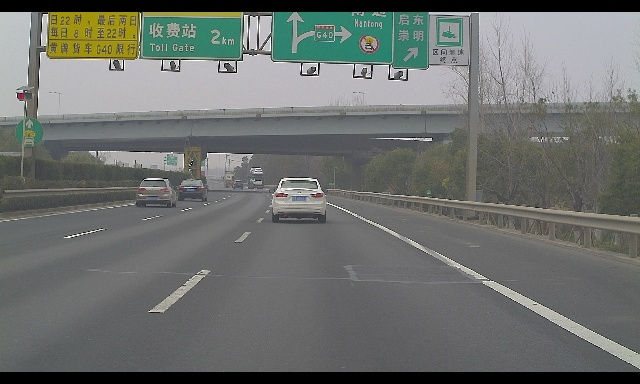car: (269, 177, 328, 223), (136, 178, 177, 207), (178, 179, 209, 202), (233, 180, 243, 190)
truck: (247, 167, 265, 189), (223, 174, 236, 188), (176, 168, 184, 176), (198, 171, 205, 179)
